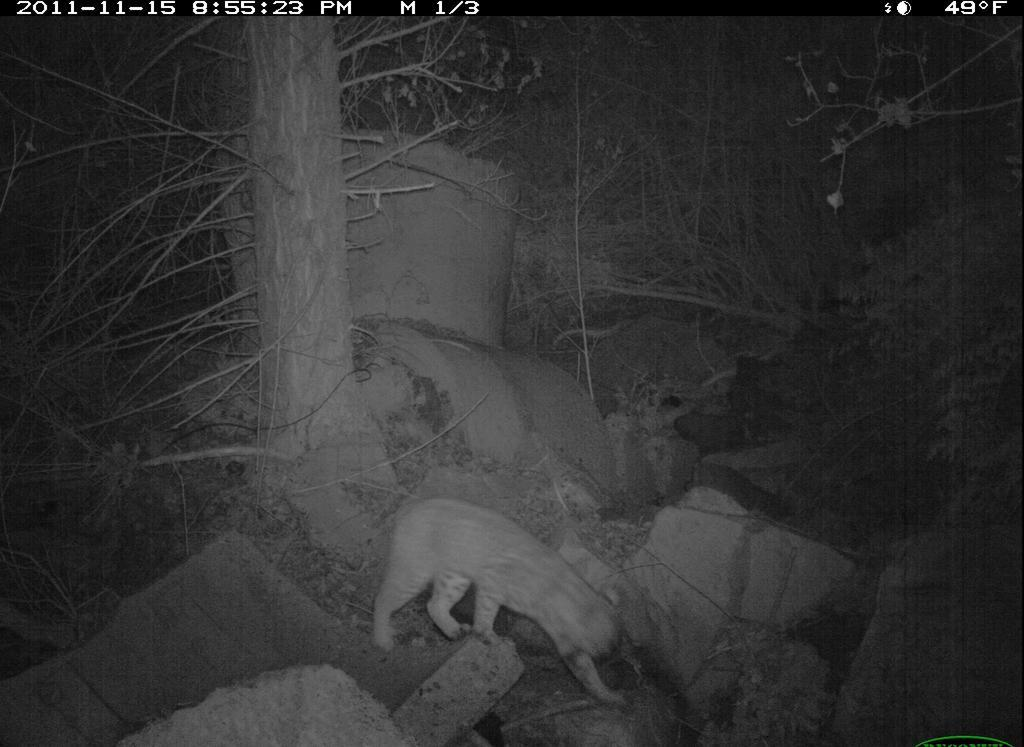bobcat: (361, 486, 637, 713)
